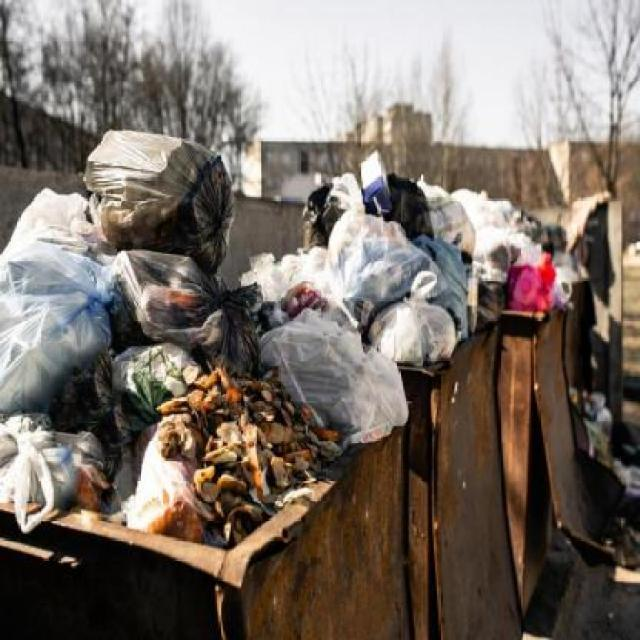garbage: (214, 181, 435, 396), (26, 139, 178, 433), (103, 348, 309, 529), (437, 185, 546, 318)
